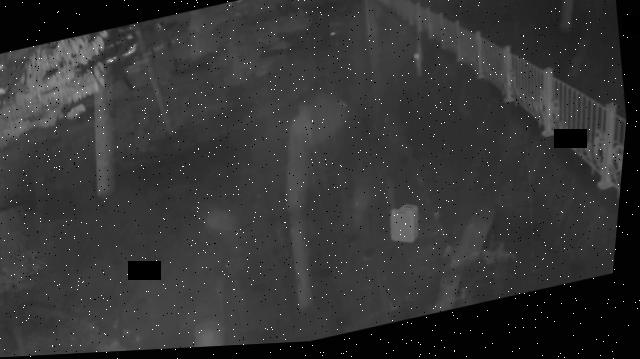bag: (390, 205, 429, 251)
